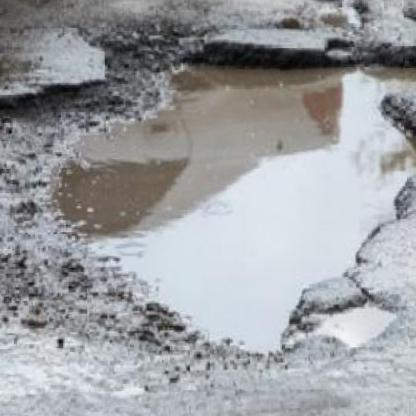pothole: (11, 33, 416, 366)
